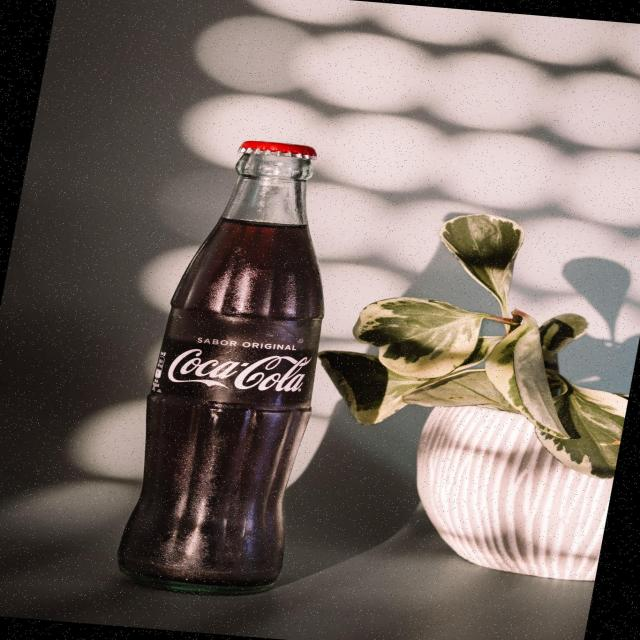coca-cola: (163, 342, 311, 398)
